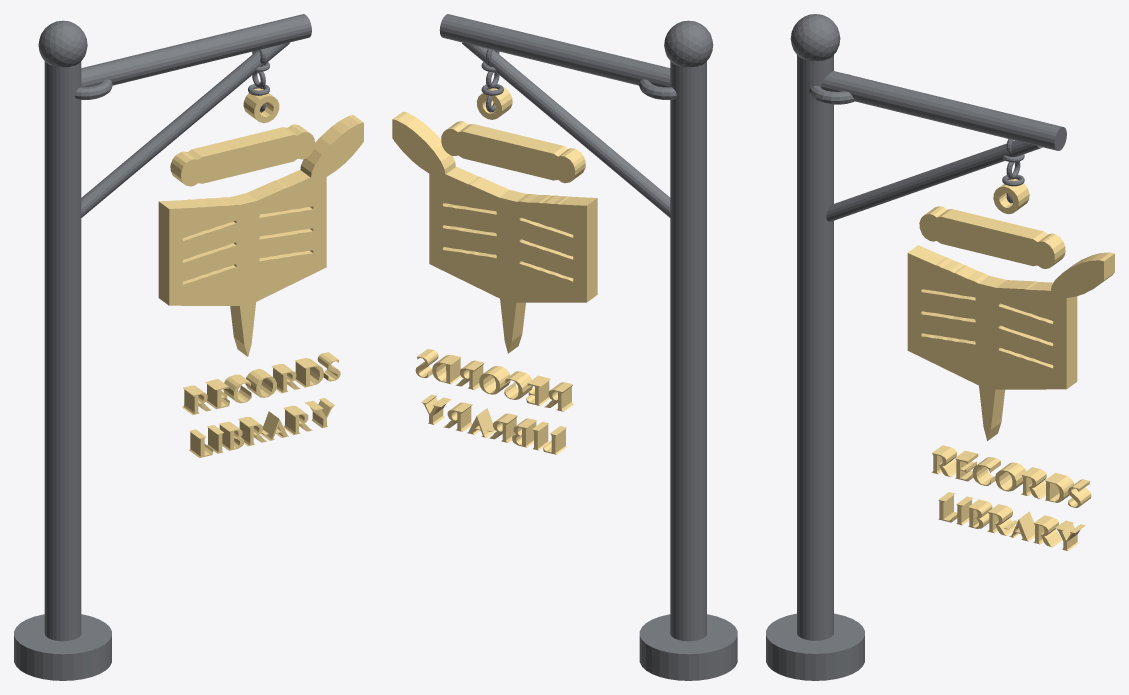
The model's file is records_library.glb.
3 renders of one model, left to right at view 1: azimuth 30°, elevation 25°; view 2: azimuth 150°, elevation 25°; view 3: azimuth 330°, elevation 25°, orthographic.
Visible parts, largest first — view 1: sign, post, arm, post_base, brace, post_cap; view 2: sign, post, arm, post_base, brace, post_cap; view 3: sign, post, arm, post_base, brace, post_cap, scroll.
Boxes of the visible parts, left/top/right/bottom form: sign: left=158, top=88, right=363, bottom=457; post: left=44, top=61, right=81, bottom=641; arm: left=81, top=14, right=311, bottom=87; post_base: left=14, top=614, right=111, bottom=680; brace: left=81, top=42, right=289, bottom=217; post_cap: left=38, top=20, right=87, bottom=67; sign: left=392, top=86, right=597, bottom=454; post: left=670, top=61, right=706, bottom=641; arm: left=439, top=14, right=670, bottom=87; post_base: left=639, top=614, right=737, bottom=680; brace: left=462, top=42, right=670, bottom=217; post_cap: left=664, top=20, right=713, bottom=67; sign: left=907, top=179, right=1114, bottom=550; post: left=797, top=55, right=833, bottom=640; arm: left=821, top=71, right=1066, bottom=150; post_base: left=766, top=613, right=864, bottom=680; brace: left=826, top=140, right=1042, bottom=221; post_cap: left=790, top=14, right=840, bottom=60; scroll: left=809, top=74, right=854, bottom=104.
Size of the model in its own units: 1.58 by 2.86 by 0.3978.
